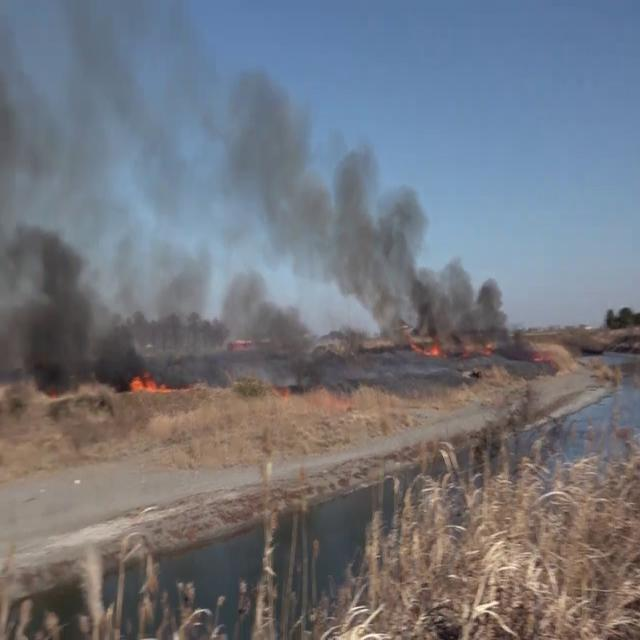Fire: (128, 362, 168, 399)
Smoke: (2, 23, 520, 381)
